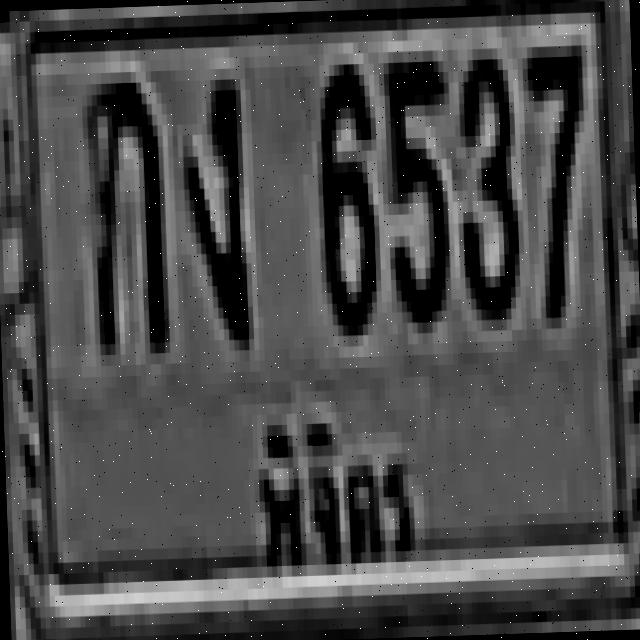10GorGai: (80, 71, 164, 344)
16NgorNgu: (175, 68, 244, 341)
3: (452, 42, 516, 304)
5: (377, 45, 446, 318)
6: (314, 52, 372, 326)
7: (521, 34, 585, 318)
Phichit: (240, 406, 432, 580)
